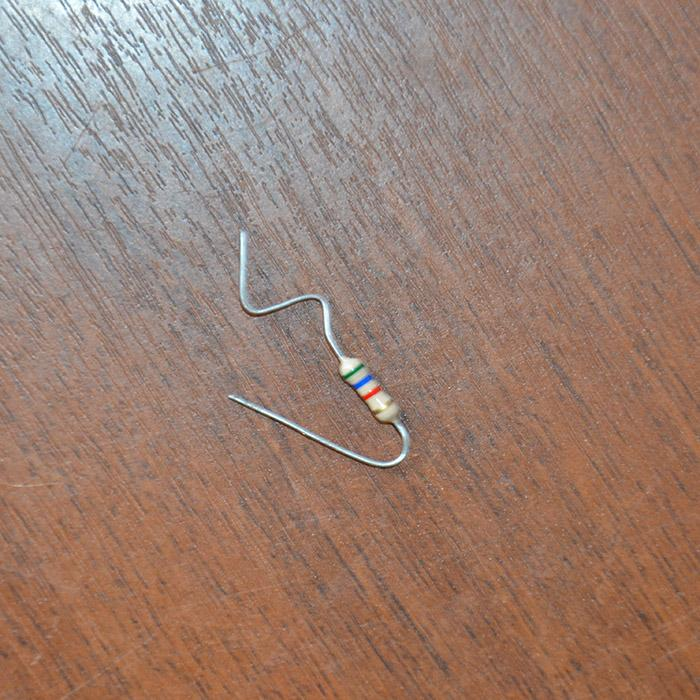resistor: (336, 353, 399, 424)
